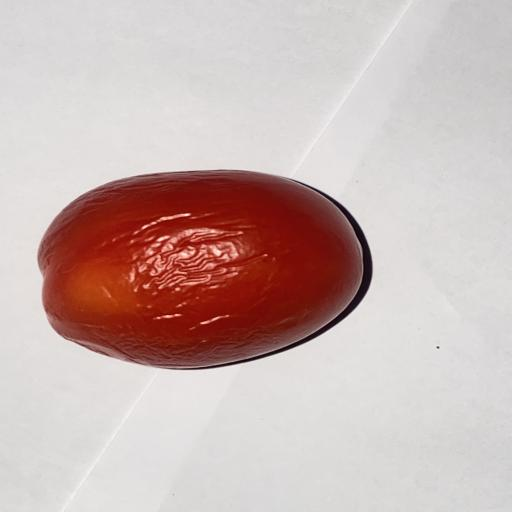spoiled: (39, 171, 362, 368)
